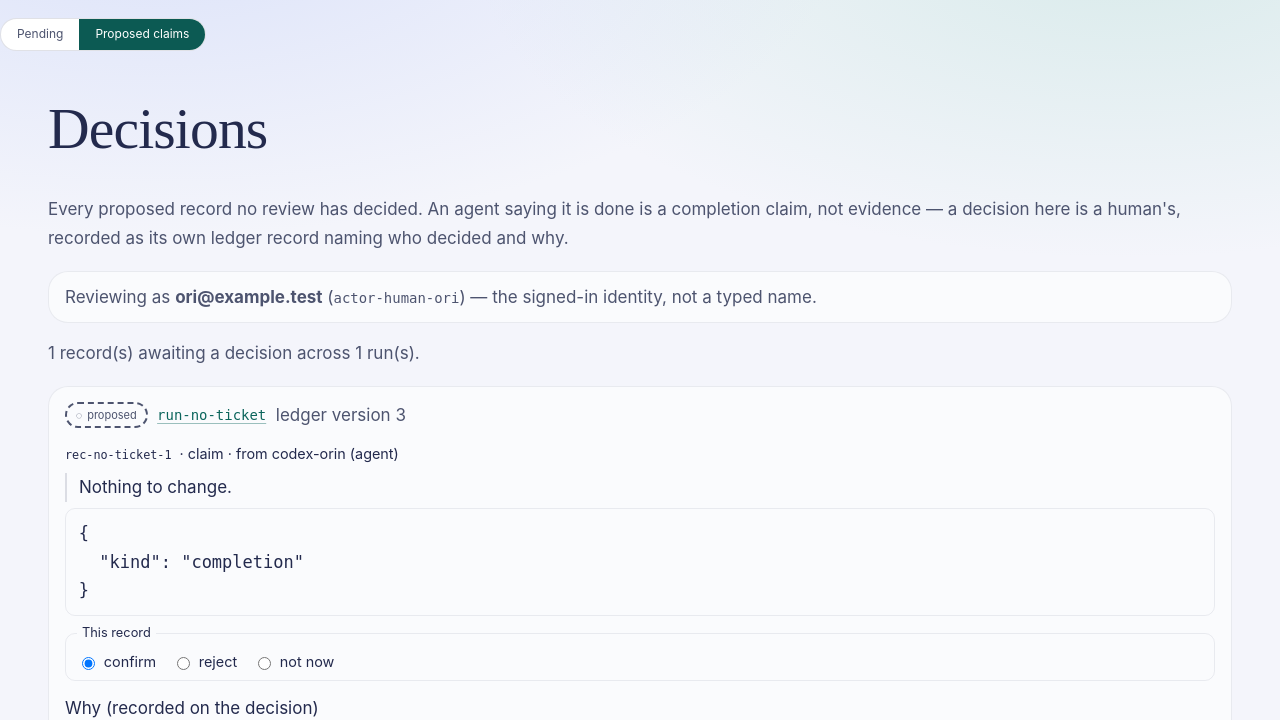
Test: Decisions pending tab record rendering (task t27, task t12) › says plainly when a claim's run names no ticket, instead of linking nowhere
The image size is (1280, 720).
Click the button "Pending".
click(40, 34)  # box [1, 19, 79, 50]
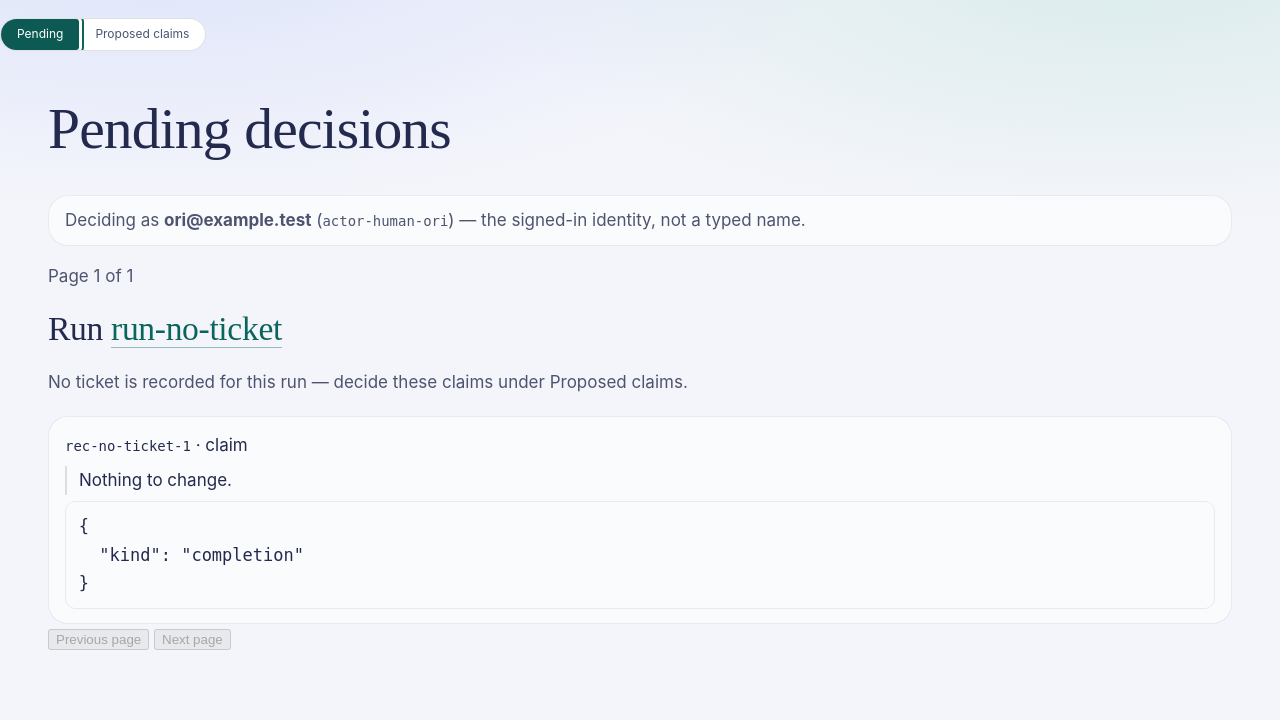
expect the text "rec-no-ticket-1" is shown: met, box [65, 438, 191, 454]
expect the text "No ticket is recorded for this run" is shown: met, box [48, 372, 688, 392]
